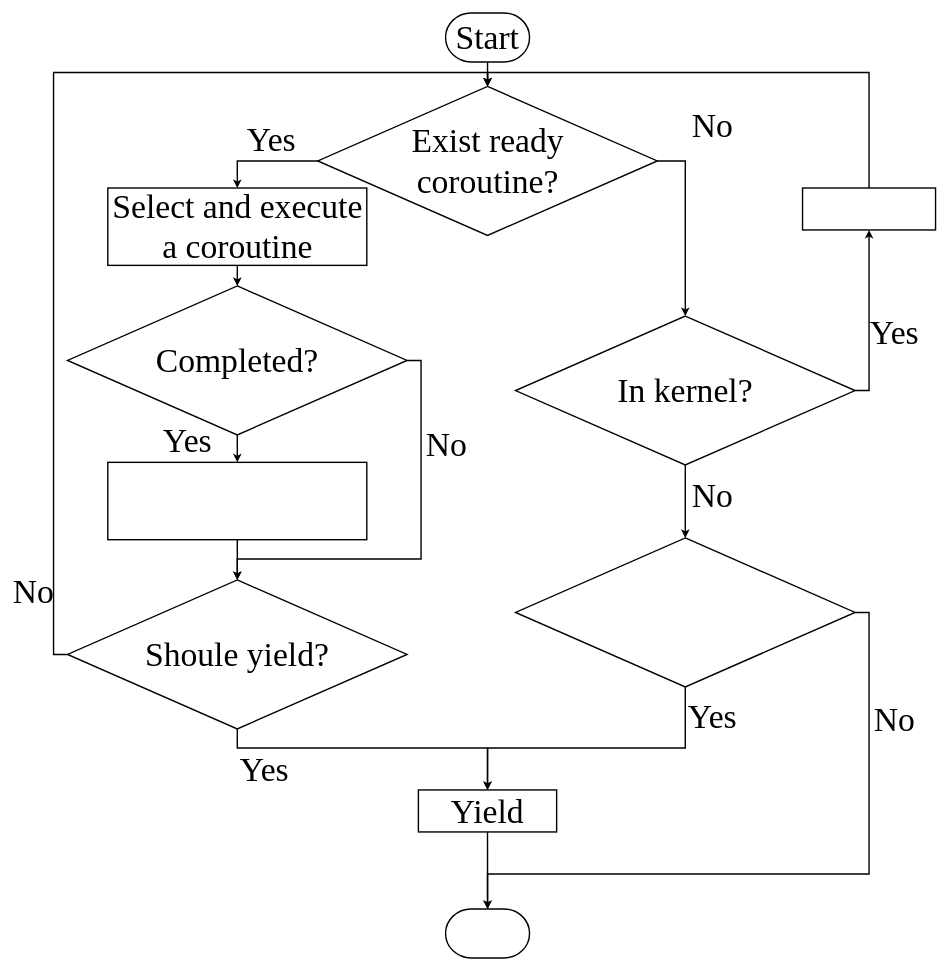
Image size: 948x970. Some labels were removed from this diagram. The shapes that lost their labels are listed below. From the top down, each one's box as (x1, y1, x2, y2) in pixels, then its label:
(802, 187, 936, 230): Idle
(107, 461, 367, 540): Delete coroutine
(514, 537, 855, 687): Exist blocked coroutine?
(444, 908, 530, 958): Exit
